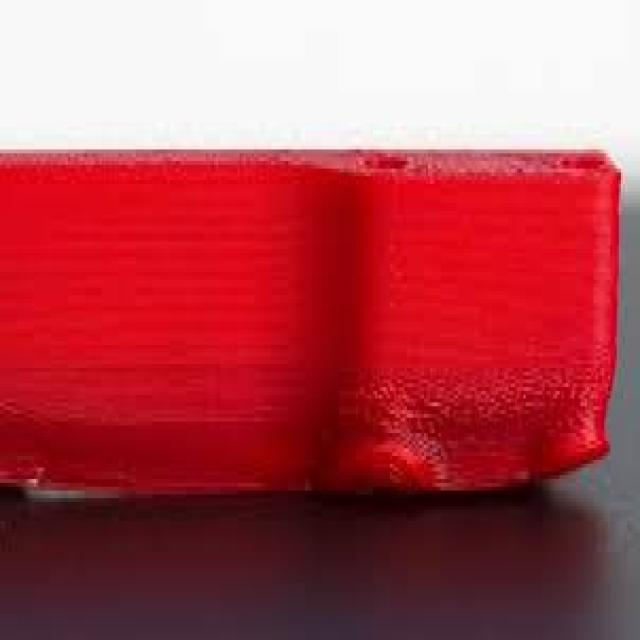Warping: (400, 442, 611, 494)
